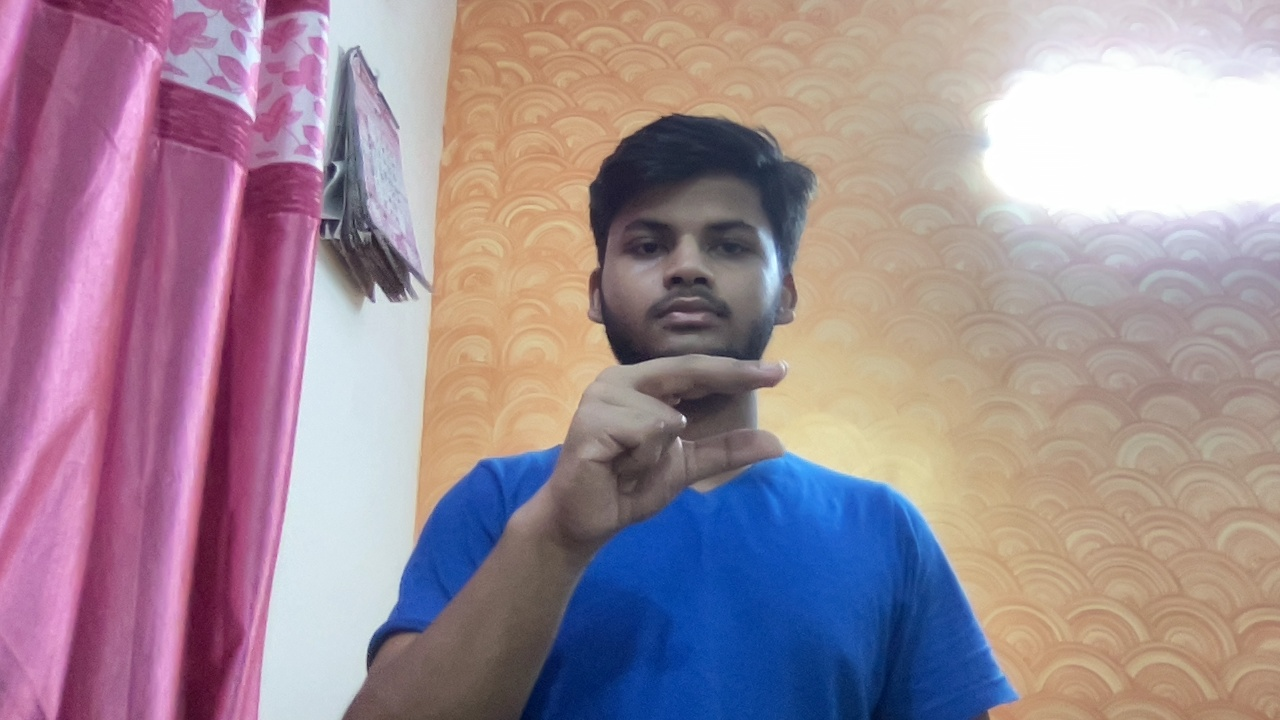no: (519, 345, 809, 550)
